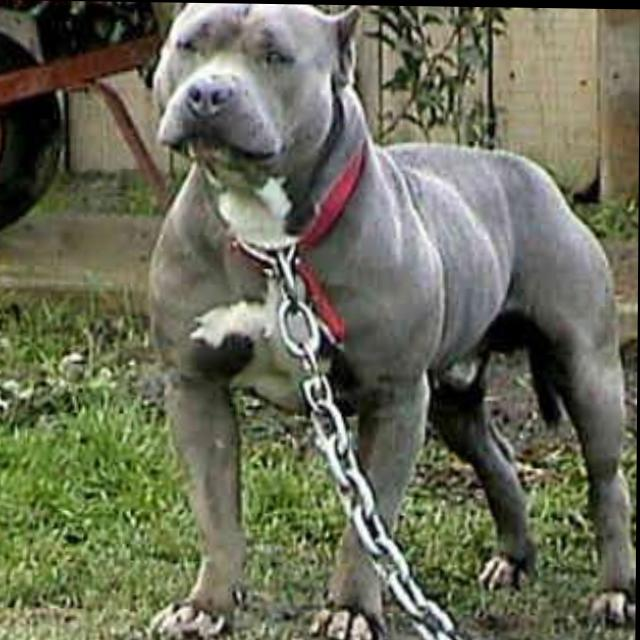staffford: (144, 3, 640, 640)
